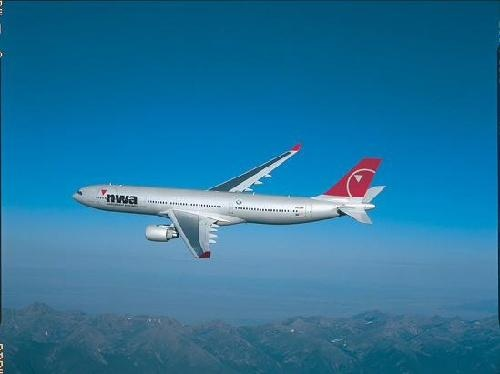airplane: (61, 143, 412, 246)
